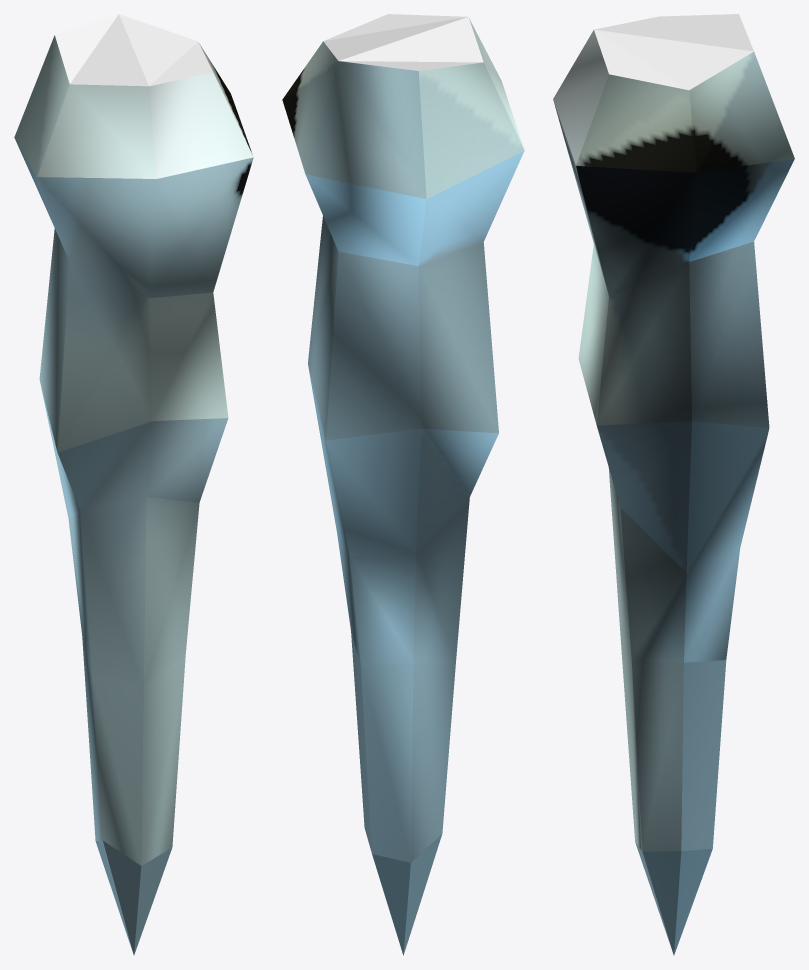
The model's file is Icicle.glb.
3 views of the same model, side by side, from view 1: azimuth 30°, elevation 25°; view 2: azimuth 150°, elevation 25°; view 3: azimuth 270°, elevation 25° (orthographic).
Visible parts, largest first — view 1: icicle; view 2: icicle; view 3: icicle.
Boxes of the visible parts, box(x1,y1,x2,y2) form: icicle: box(14, 14, 253, 955); icicle: box(282, 14, 524, 955); icicle: box(553, 14, 794, 955).
Bounding box in the file's own units: 0.3524 × 1.41 × 0.3373.
Materials: 1 (1 with a texture image).
